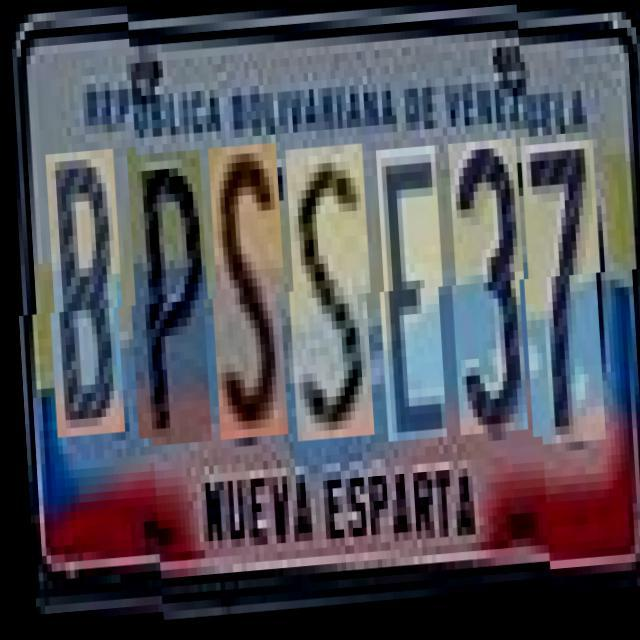3: (446, 148, 527, 444)
7: (518, 142, 604, 446)
B: (44, 159, 125, 446)
E: (374, 154, 446, 448)
P: (124, 153, 210, 449)
S: (283, 150, 373, 446), (206, 148, 287, 444)
